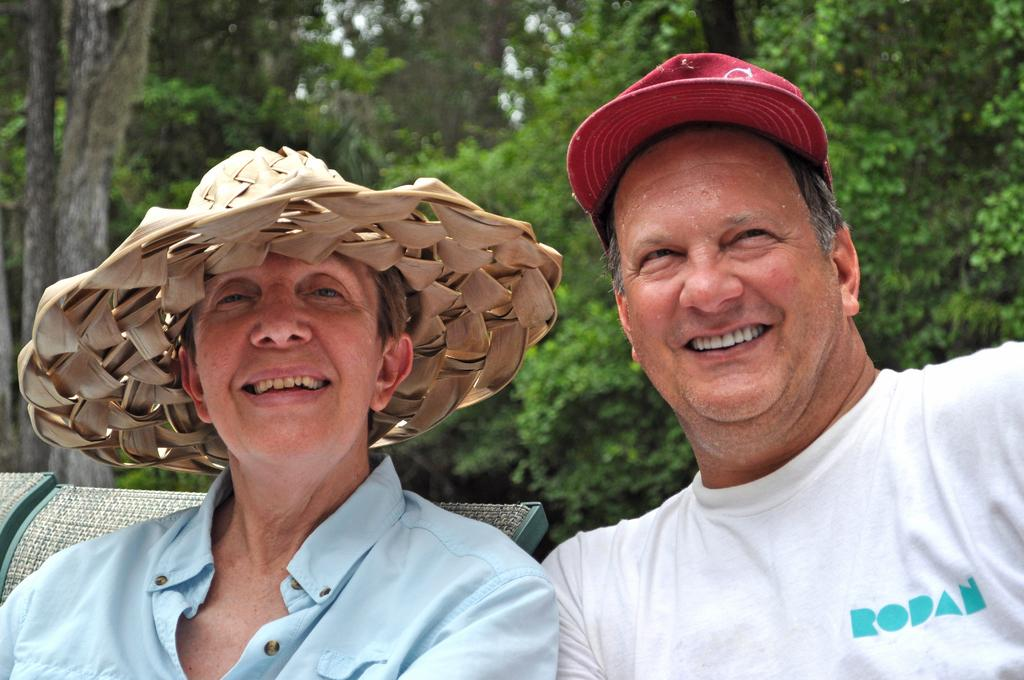Hat: (14, 144, 564, 472), (564, 51, 836, 255)
